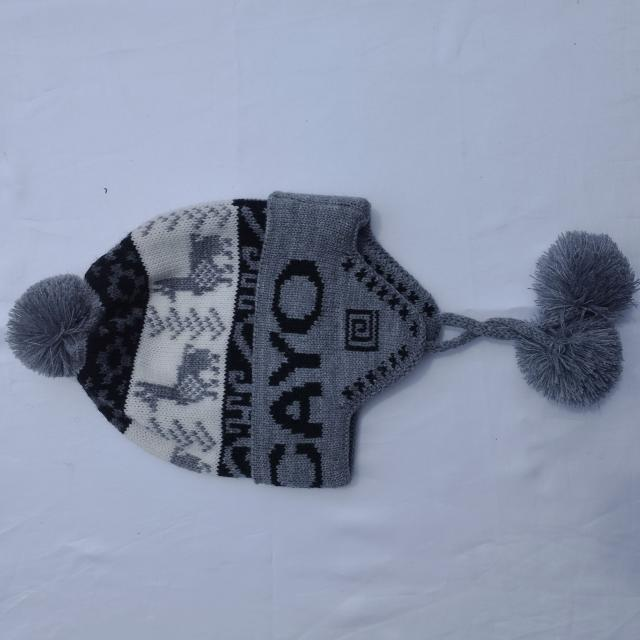Gorro: (5, 190, 638, 489)
